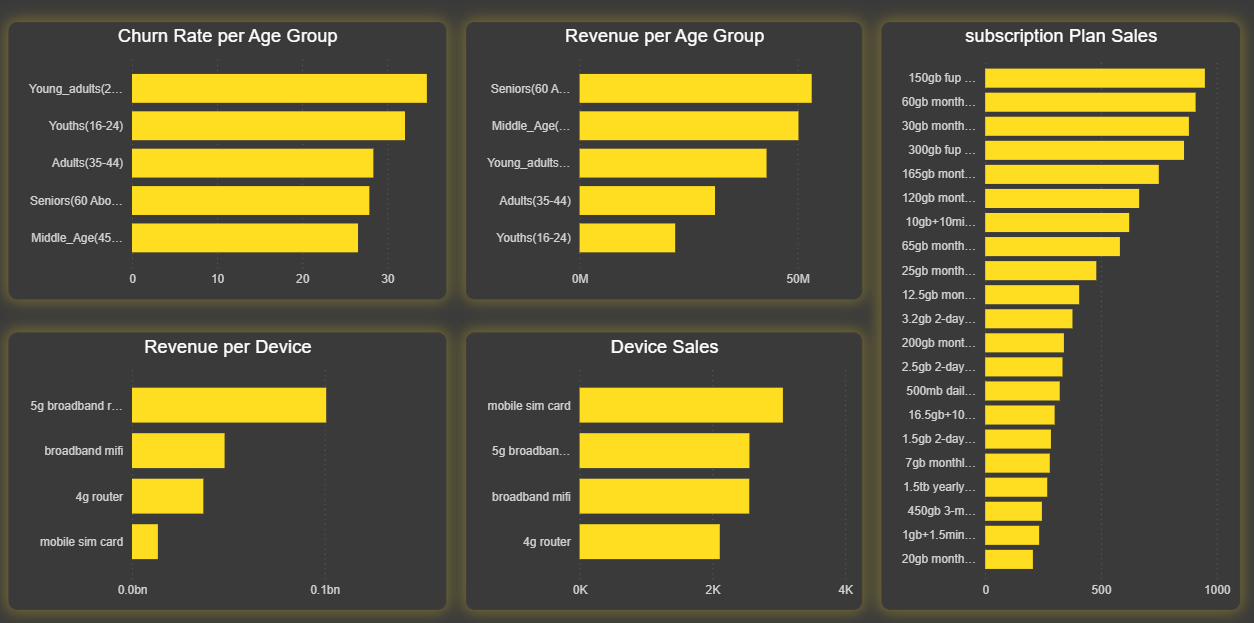

Layout of this report page (visuals, bound fields, positions):
{"tool":"powerbi","page":{"name":"Page 2","canvas":[1280,720],"ordinal":1},"visuals":[{"type":"clusteredBarChart","title":"Churn Rate per Age Group","fields":{"Category":["age_grp_report.age_group"],"Y":["Avg(age_grp_report.churn Rate)"]},"box":[23.3,26.7,441.7,280],"z":0},{"type":"clusteredBarChart","title":"Revenue per Age Group","fields":{"Category":["age_grp_report.age_group"],"Y":["Sum(age_grp_report.Revenue)"]},"box":[485,26.7,400,280],"z":1000},{"type":"clusteredBarChart","title":"Revenue per Device","fields":{"Category":["mtn_clean.mtn_device"],"Y":["Sum(mtn_clean.total_revenue)"]},"box":[23.3,340,441.7,280],"z":2000},{"type":"clusteredBarChart","title":"Device Sales","fields":{"Category":["mtn_clean.mtn_device"],"Y":["Sum(mtn_clean.number_of_times_purchased)"]},"box":[485,340,400,280],"z":3000},{"type":"clusteredBarChart","title":"subscription Plan Sales","fields":{"Category":["mtn_clean.subscription_plan"],"Y":["Sum(mtn_clean.number_of_times_purchased)"]},"box":[903.3,26.7,361.7,593.3],"z":4000},{"type":"textbox","box":[0,681.7,300,38.3],"z":5000}]}

Visuals, with their boxes on the page's 1280x720 design canvas (x1, y1, x2, y2). These are canvas units, not pixel positions in the 1254x623 screenshot, which may show the page scaled, cropped or inside an application window:
"Churn Rate per Age Group" clusteredBarChart: left=23, top=27, right=465, bottom=307
"Revenue per Age Group" clusteredBarChart: left=485, top=27, right=885, bottom=307
"Revenue per Device" clusteredBarChart: left=23, top=340, right=465, bottom=620
"Device Sales" clusteredBarChart: left=485, top=340, right=885, bottom=620
"subscription Plan Sales" clusteredBarChart: left=903, top=27, right=1265, bottom=620
textbox: left=0, top=682, right=300, bottom=720
